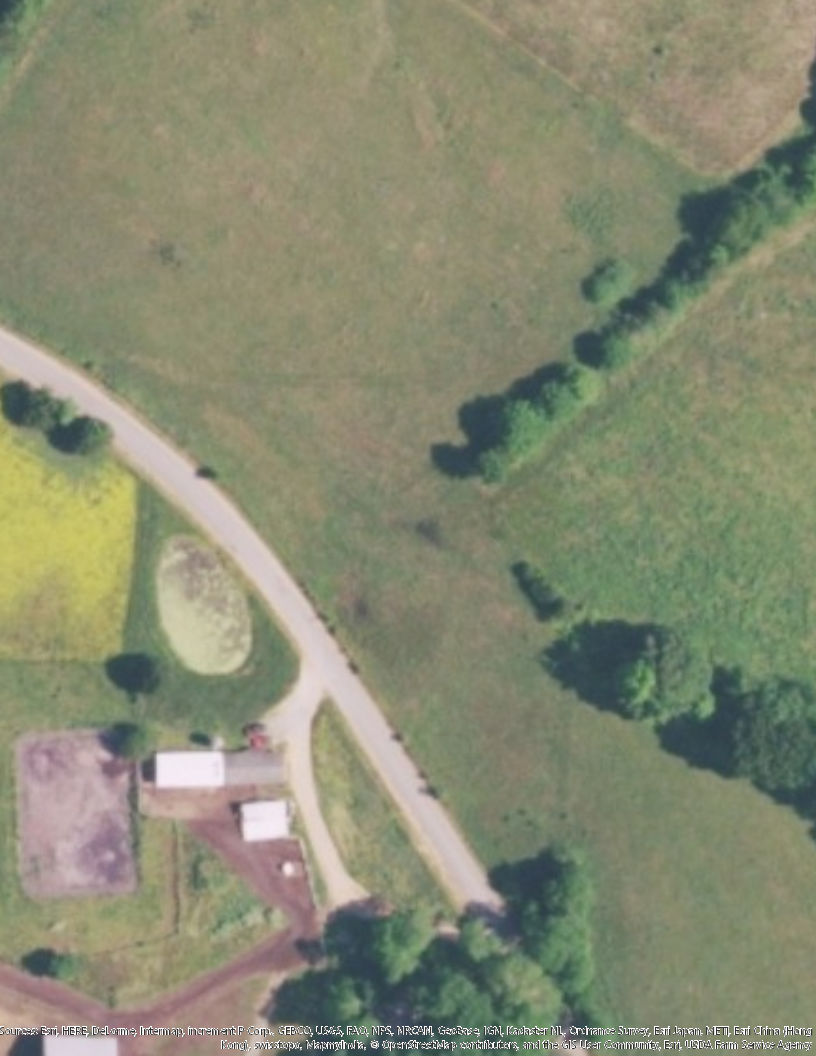cafo: (145, 726, 304, 841)
